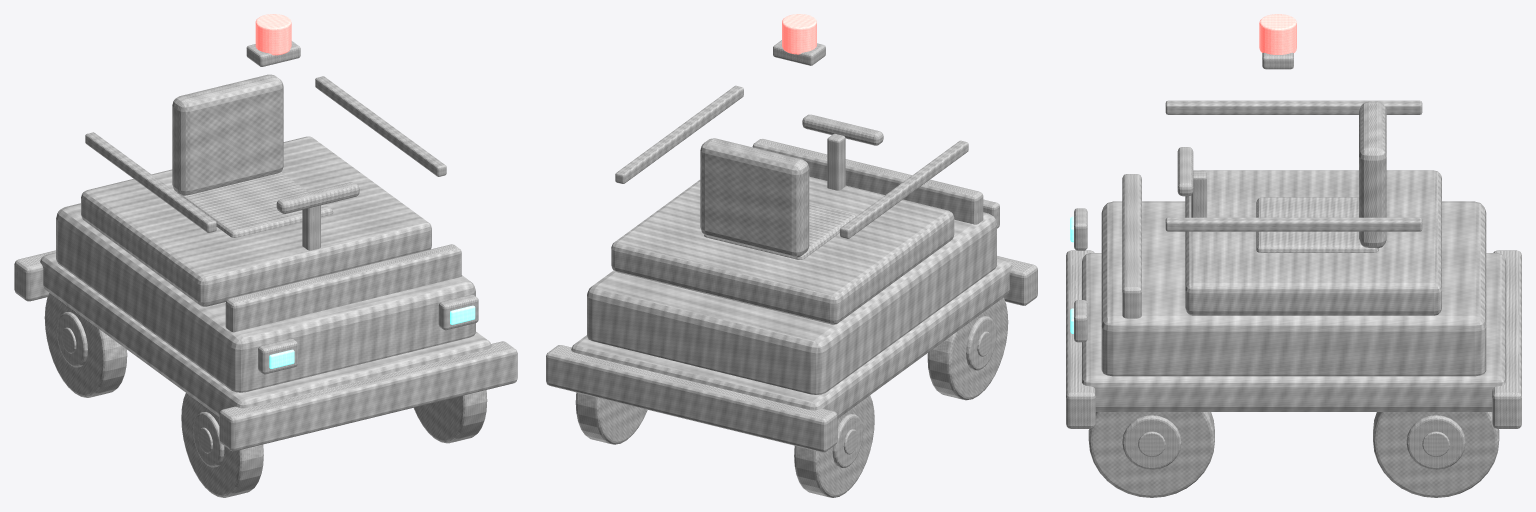
File: factory_cart_variant_c.glb
3 views of the same model, side by side, from view 1: azimuth 30°, elevation 25°; view 2: azimuth 150°, elevation 25°; view 3: azimuth 270°, elevation 25° (orthographic). The views are drawn at different scales.
Visible parts, largest first — view 1: Upper body panel, Utility frame, Front bumper.002, Driver seat back.002, Lower chassis.002, Front fascia, Driver seat base.002, Grip wheel.009, Grip wheel.008, Grip wheel.010, Safety rail, Safety rail.001 (+9 smaller); view 2: Utility frame, Upper body panel, Rear bumper.002, Driver seat back.002, Lower chassis.002, Front fascia, Grip wheel.008, Grip wheel.009, Grip wheel.011, Safety rail.001, Safety rail, Driver seat base.002 (+7 smaller); view 3: Utility frame, Upper body panel, Lower chassis.002, Grip wheel.010, Grip wheel.011, Driver seat base.002, Safety rail.001, Driver seat back.002, Safety rail, Rear bumper.002, Front bumper.002, Front fascia (+10 smaller).
Boxes of the visible parts, x1=… form: Upper body panel: x1=81, y1=136, x2=431, y2=306; Utility frame: x1=56, y1=203, x2=475, y2=392; Front bumper.002: x1=219, y1=341, x2=517, y2=451; Driver seat back.002: x1=172, y1=74, x2=283, y2=195; Lower chassis.002: x1=40, y1=252, x2=491, y2=416; Front fascia: x1=225, y1=244, x2=461, y2=332; Driver seat base.002: x1=177, y1=172, x2=333, y2=237; Grip wheel.009: x1=44, y1=293, x2=127, y2=397; Grip wheel.008: x1=181, y1=393, x2=263, y2=497; Grip wheel.010: x1=414, y1=390, x2=487, y2=443; Safety rail: x1=85, y1=132, x2=216, y2=232; Safety rail.001: x1=315, y1=76, x2=446, y2=176; Utility frame: x1=587, y1=212, x2=996, y2=394; Upper body panel: x1=611, y1=176, x2=954, y2=324; Rear bumper.002: x1=546, y1=345, x2=837, y2=452; Driver seat back.002: x1=700, y1=138, x2=809, y2=257; Lower chassis.002: x1=571, y1=257, x2=1012, y2=418; Front fascia: x1=752, y1=139, x2=983, y2=224; Grip wheel.008: x1=927, y1=297, x2=1008, y2=400; Grip wheel.009: x1=794, y1=395, x2=874, y2=497; Grip wheel.011: x1=575, y1=392, x2=647, y2=444; Safety rail.001: x1=615, y1=85, x2=743, y2=183; Safety rail: x1=840, y1=140, x2=968, y2=238; Driver seat base.002: x1=704, y1=203, x2=856, y2=259; Utility frame: x1=1101, y1=201, x2=1486, y2=376; Upper body panel: x1=1185, y1=170, x2=1441, y2=315; Lower chassis.002: x1=1082, y1=253, x2=1505, y2=411; Grip wheel.010: x1=1088, y1=412, x2=1214, y2=497; Grip wheel.011: x1=1373, y1=412, x2=1499, y2=497; Driver seat base.002: x1=1256, y1=197, x2=1378, y2=252; Safety rail.001: x1=1165, y1=217, x2=1422, y2=231; Driver seat back.002: x1=1359, y1=101, x2=1386, y2=248; Safety rail: x1=1165, y1=100, x2=1422, y2=114; Rear bumper.002: x1=1492, y1=250, x2=1521, y2=428; Front bumper.002: x1=1066, y1=250, x2=1095, y2=428; Front fascia: x1=1122, y1=174, x2=1141, y2=318.
Size of what is drawn, in the model's own units: 1.75 by 2.32 by 2.31.
6 materials, 6 textured.
